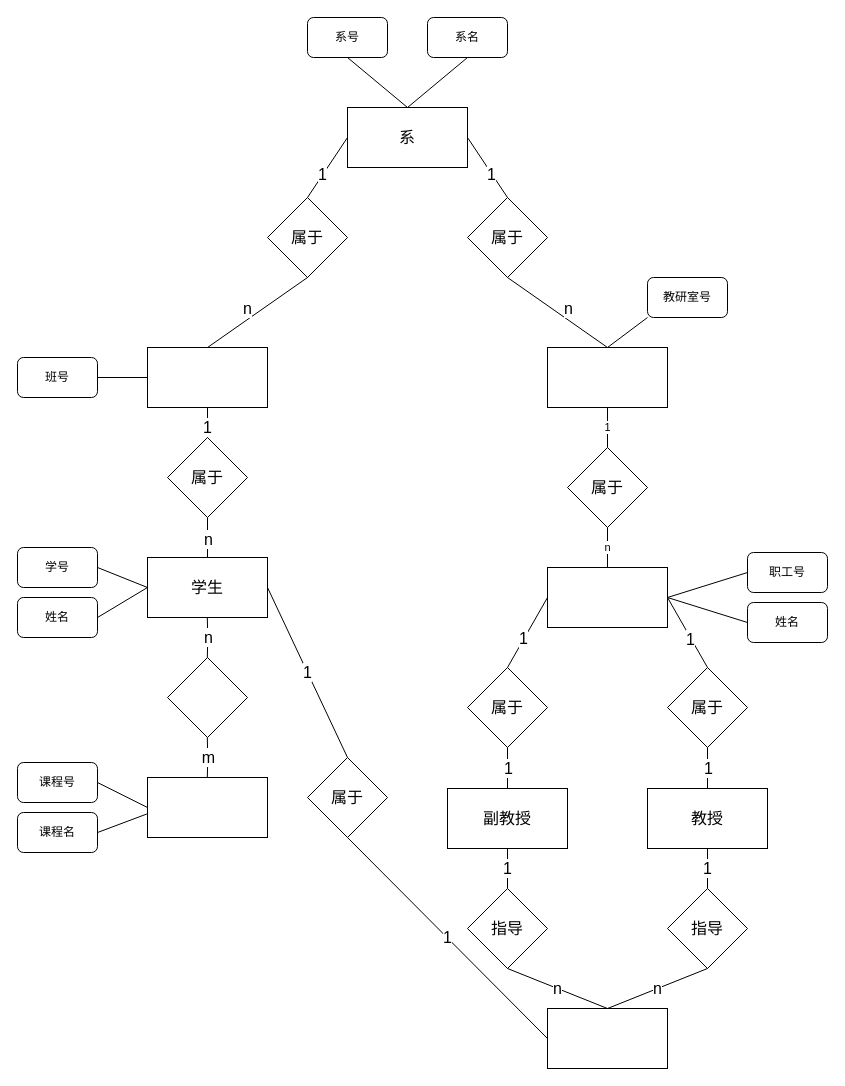
The diagram is 845 pixels wide and 1086 high, and some of its shapes have lost their labels. Each missing label, with the centre of its shape:
教员: (x=607, y=597)
教研室: (x=607, y=377)
班级: (x=207, y=377)
研究生: (x=607, y=1038)
课程: (x=207, y=807)
选修: (x=207, y=697)
